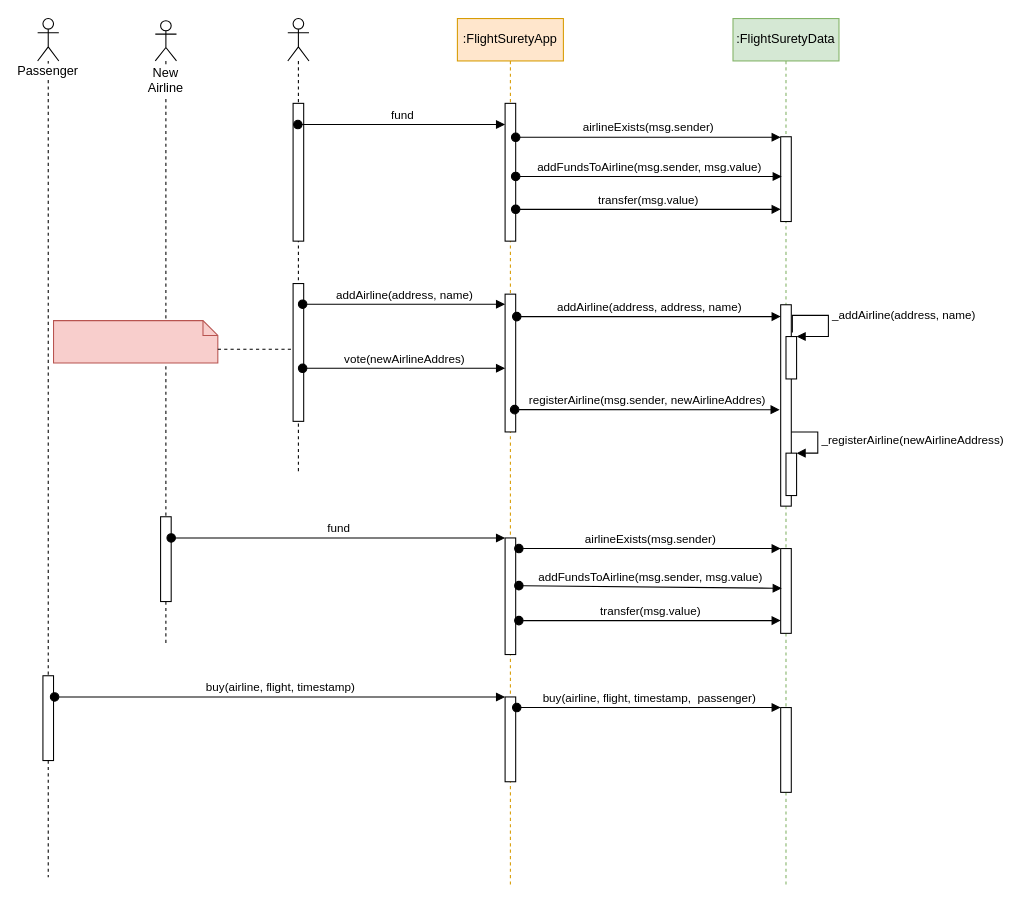
Some shapes in this 1023 by 906 pixel diagram are drawn without their labels. The centre of each missing label's shape, as x and y in pixels:
Airline First: [298,245]
Multiparty Consensus: [135,341]
